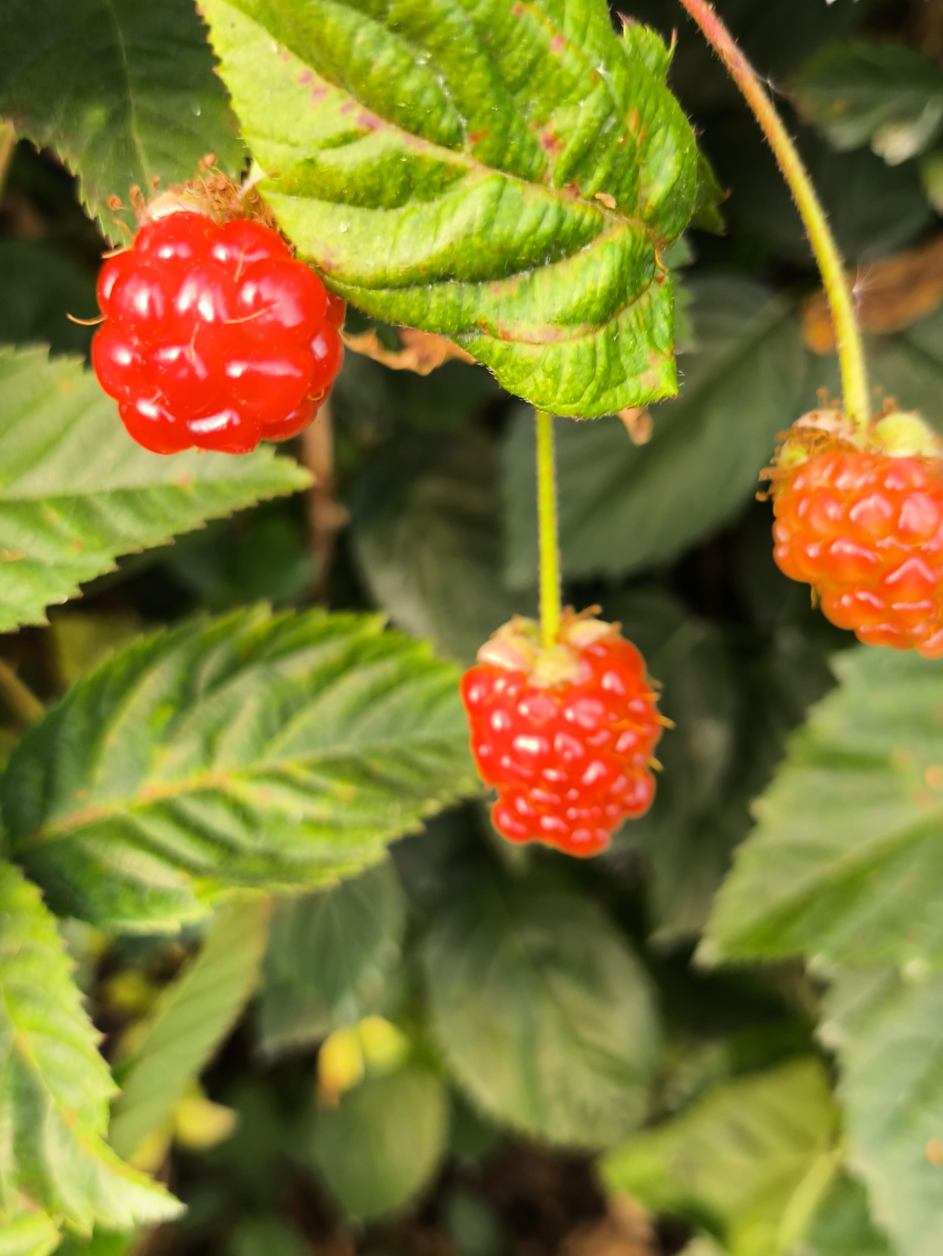naranja: (92, 209, 342, 454), (461, 611, 663, 857), (766, 410, 943, 657)
